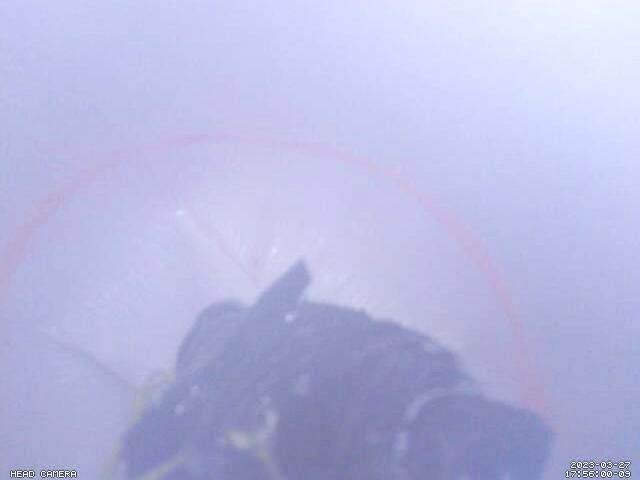head: (0, 129, 549, 419)
